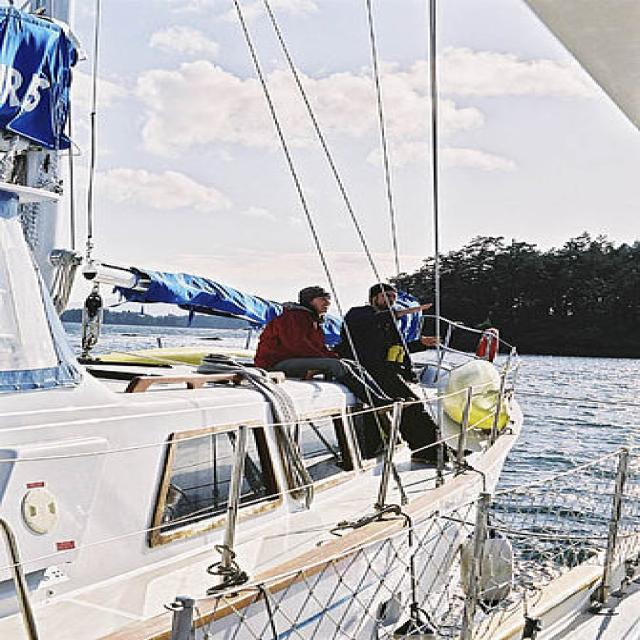boat: (1, 180, 511, 640)
person: (337, 278, 465, 470), (253, 284, 412, 410)
